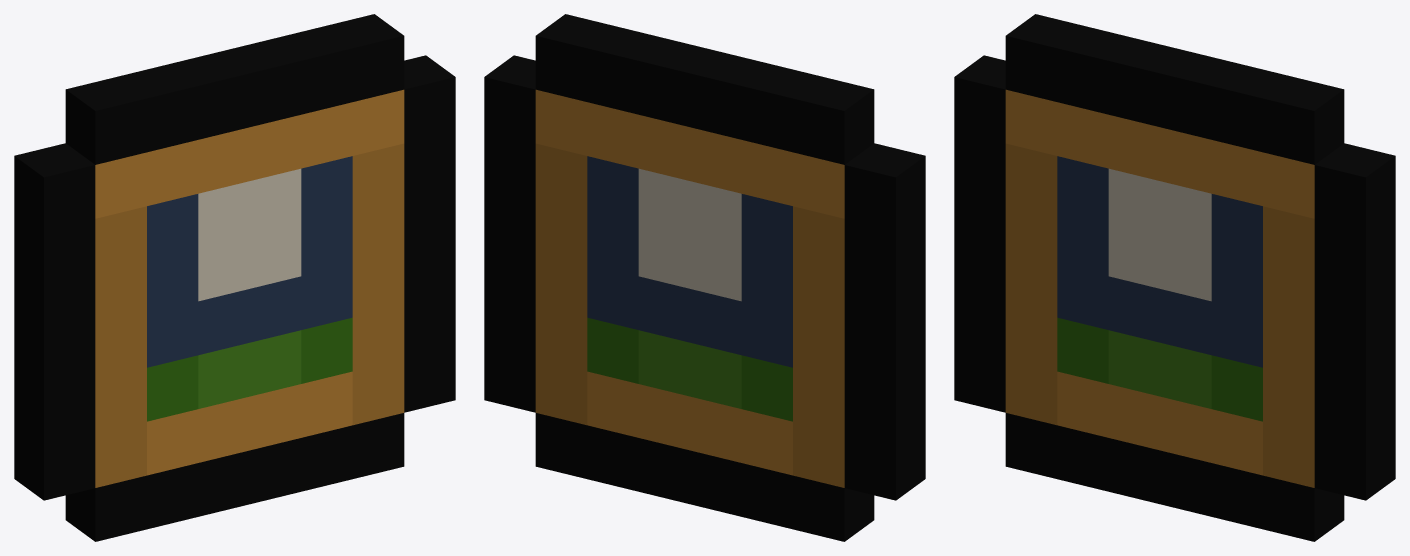
The model's file is clock_wood_midnight.glb.
3 views of the same model, side by side, from view 1: azimuth 30°, elevation 25°; view 2: azimuth 150°, elevation 25°; view 3: azimuth 330°, elevation 25° (orthographic).
Visible parts, largest first — view 1: generated(Clone); view 2: generated(Clone); view 3: generated(Clone).
Boxes of the visible parts, bbox=[...] form: generated(Clone): bbox=[14, 14, 455, 541]; generated(Clone): bbox=[484, 14, 925, 541]; generated(Clone): bbox=[954, 14, 1395, 541].
Bounding box in the file's own units: 8 × 8 × 1.
1 material, 1 textured.
